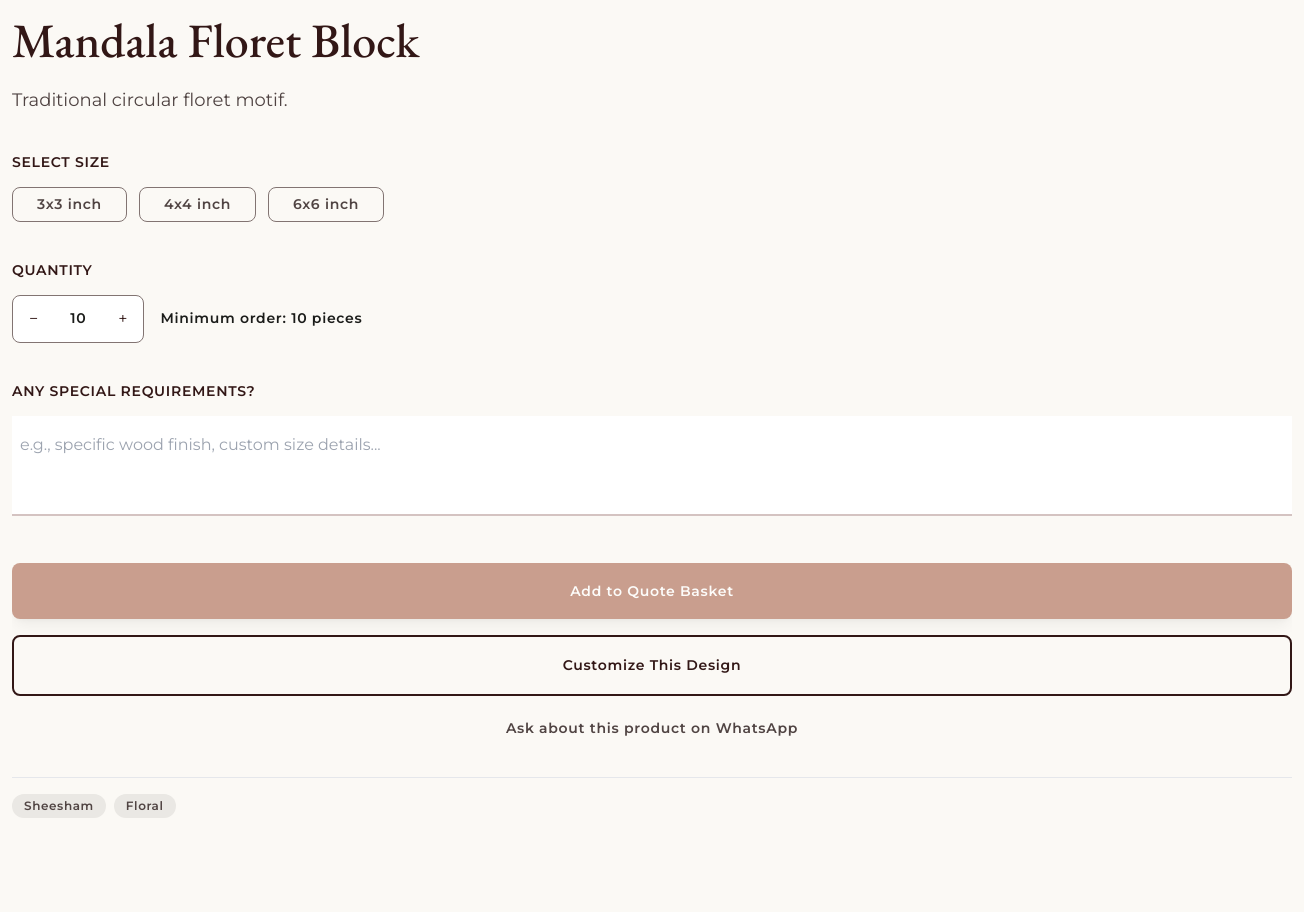
ProductInfoPanel › increments quantity
The image size is (1304, 912).
What coordinates should you click on to do the following:
click the button named "Increase quantity"
I would click on:
 (123, 319)
Its box is [102, 296, 143, 342].
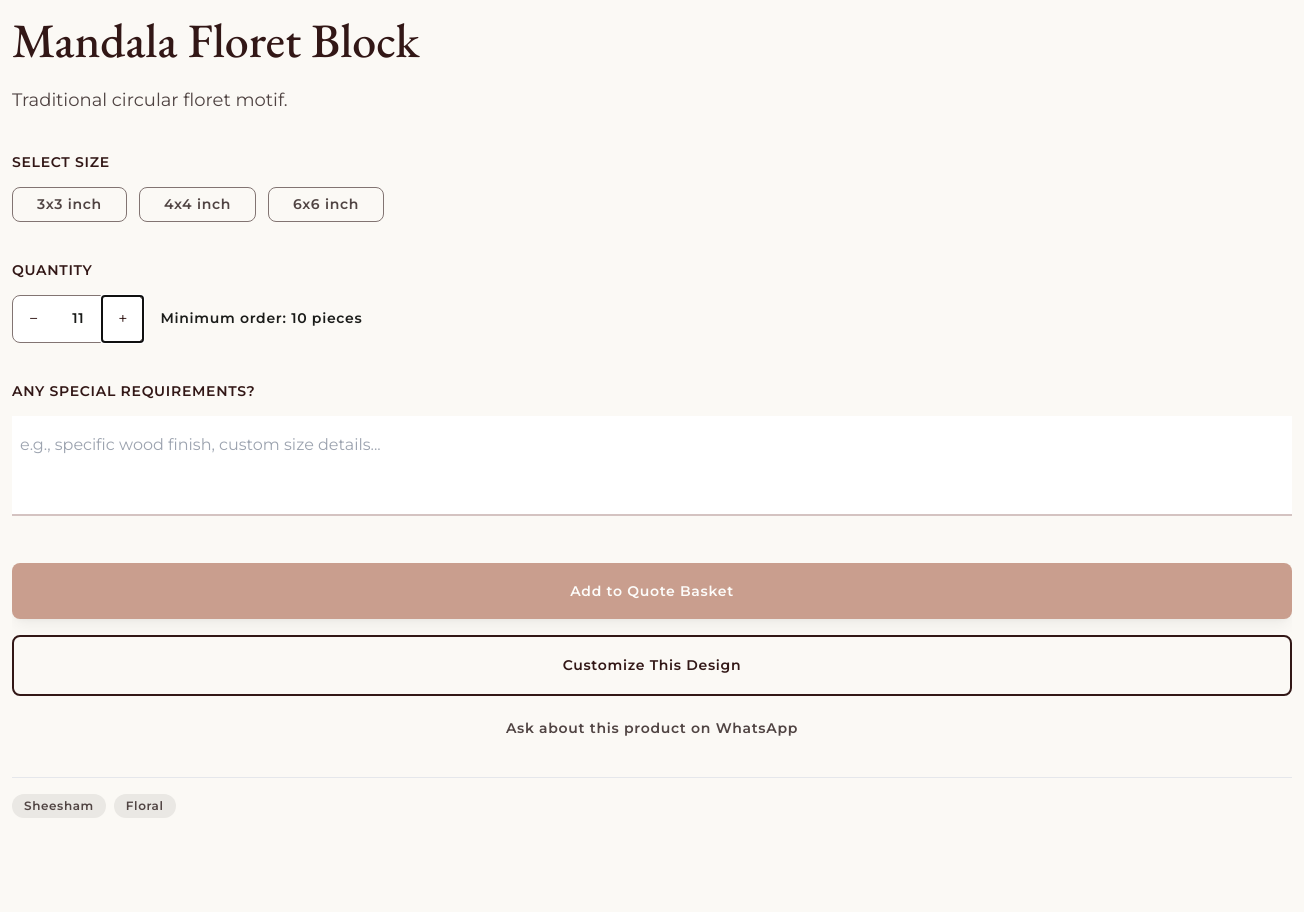
Expected: the text "11" is shown, [72, 309, 84, 327]
